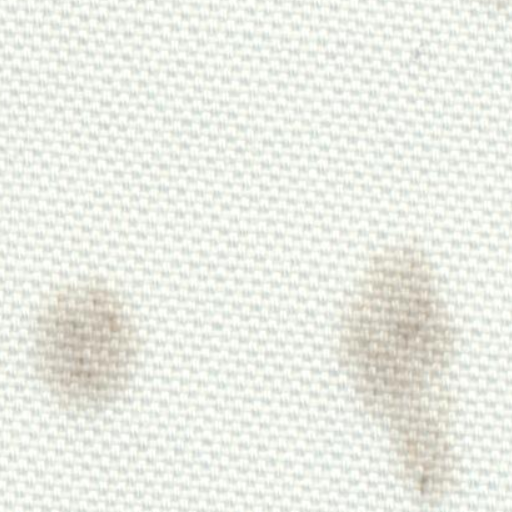WuZi: (316, 228, 492, 502), (20, 258, 165, 430)
